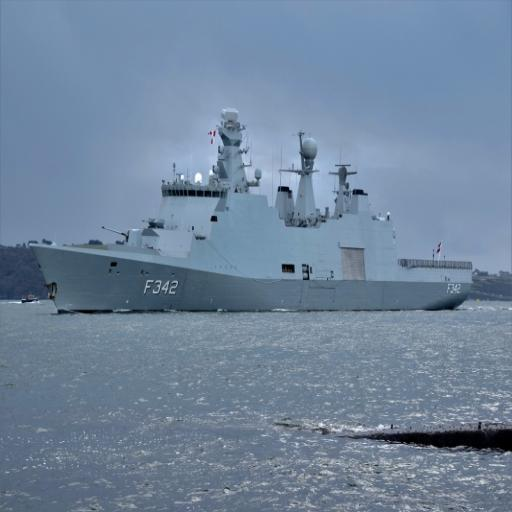Fragata: (27, 90, 474, 317)
